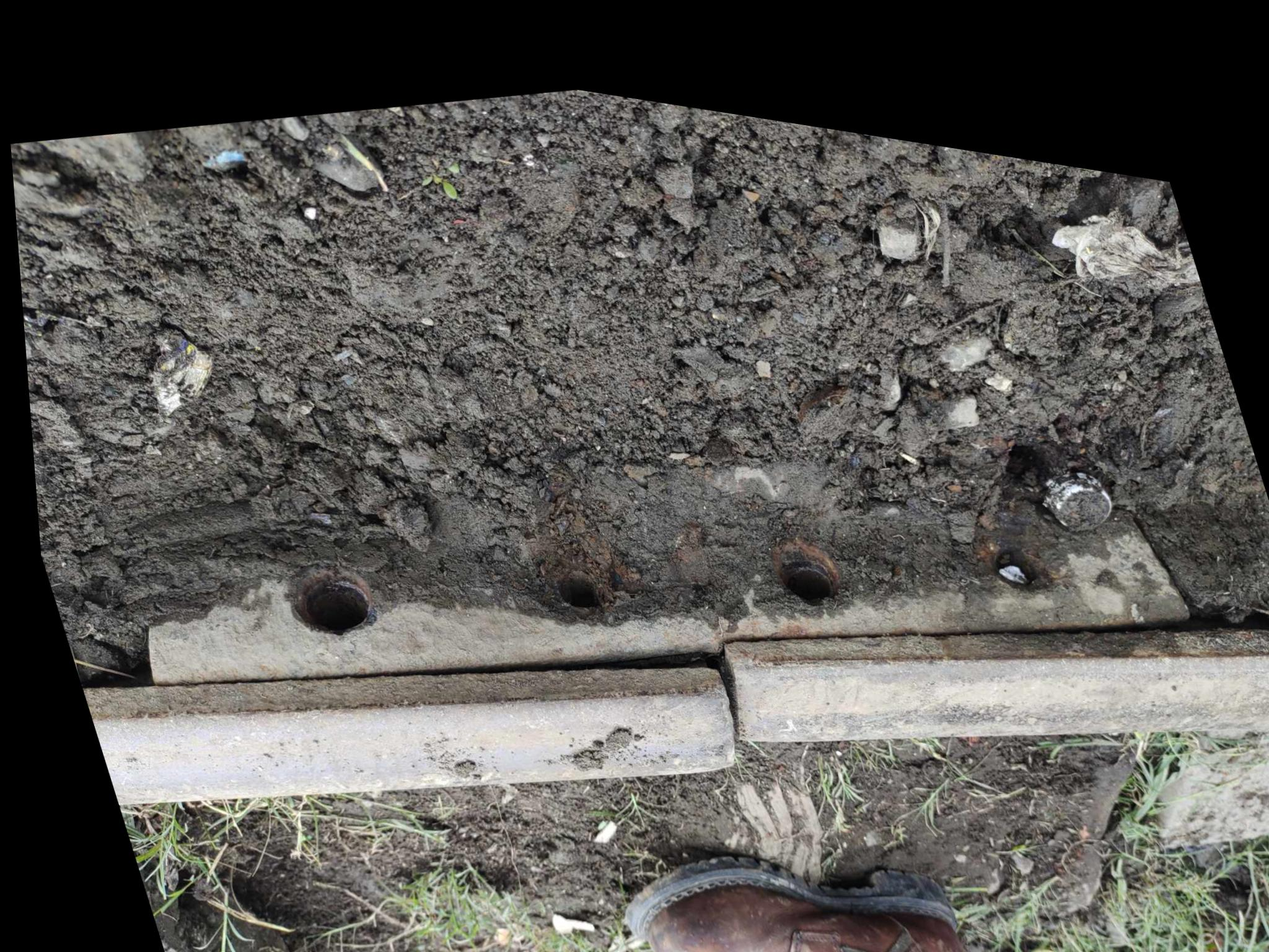person: (600, 557, 838, 796)
